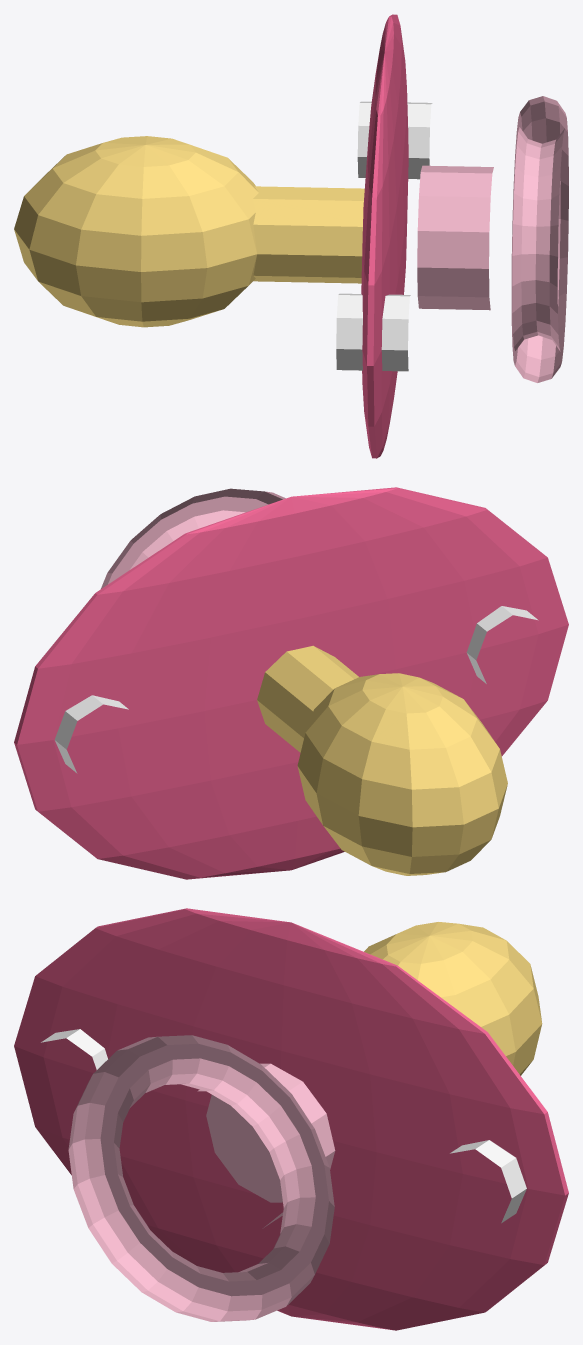
File: napp.glb
The picture shows the model from 3 angles, top to bottom: view 1: azimuth 30°, elevation 25°; view 2: azimuth 150°, elevation 25°; view 3: azimuth 270°, elevation 25°; orthographic projection. The views are drawn at different scales.
Visible parts, largest first — view 1: napp; view 2: napp; view 3: napp.
Boxes of the visible parts, x1,y1,x2,y2 form: napp: (14, 14, 568, 458); napp: (14, 487, 568, 879); napp: (14, 908, 568, 1330).
Bounding box in the file's own units: 0.2264 × 0.17 × 0.217.
